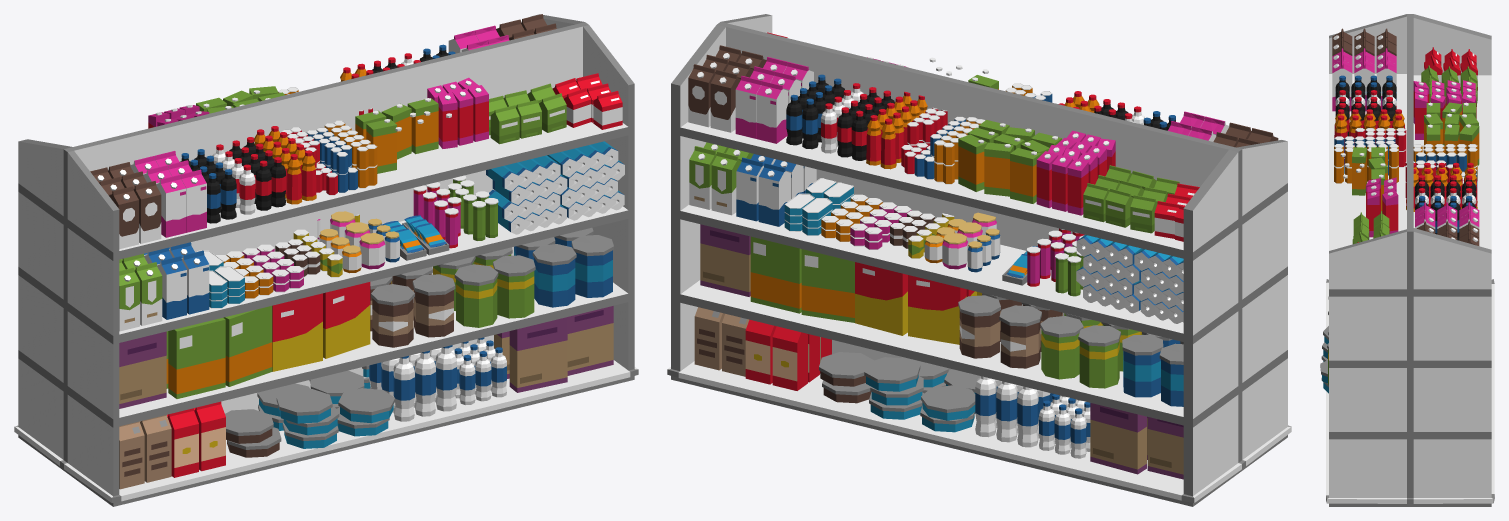
File: SM_shelf_01.fbx
3 renders of one model, left to right at view 1: azimuth 30°, elevation 25°; view 2: azimuth 150°, elevation 25°; view 3: azimuth 270°, elevation 25°, orthographic. The views are drawn at different scales.
Visible parts, largest first — view 1: SM_shelf_01; view 2: SM_shelf_01; view 3: SM_shelf_01.
Boxes of the visible parts, x1,y1,x2,y2 form: SM_shelf_01: (14, 14, 638, 506); SM_shelf_01: (667, 14, 1291, 506); SM_shelf_01: (1320, 14, 1494, 506).
Size of the model in its own units: 406 by 236 by 135.
